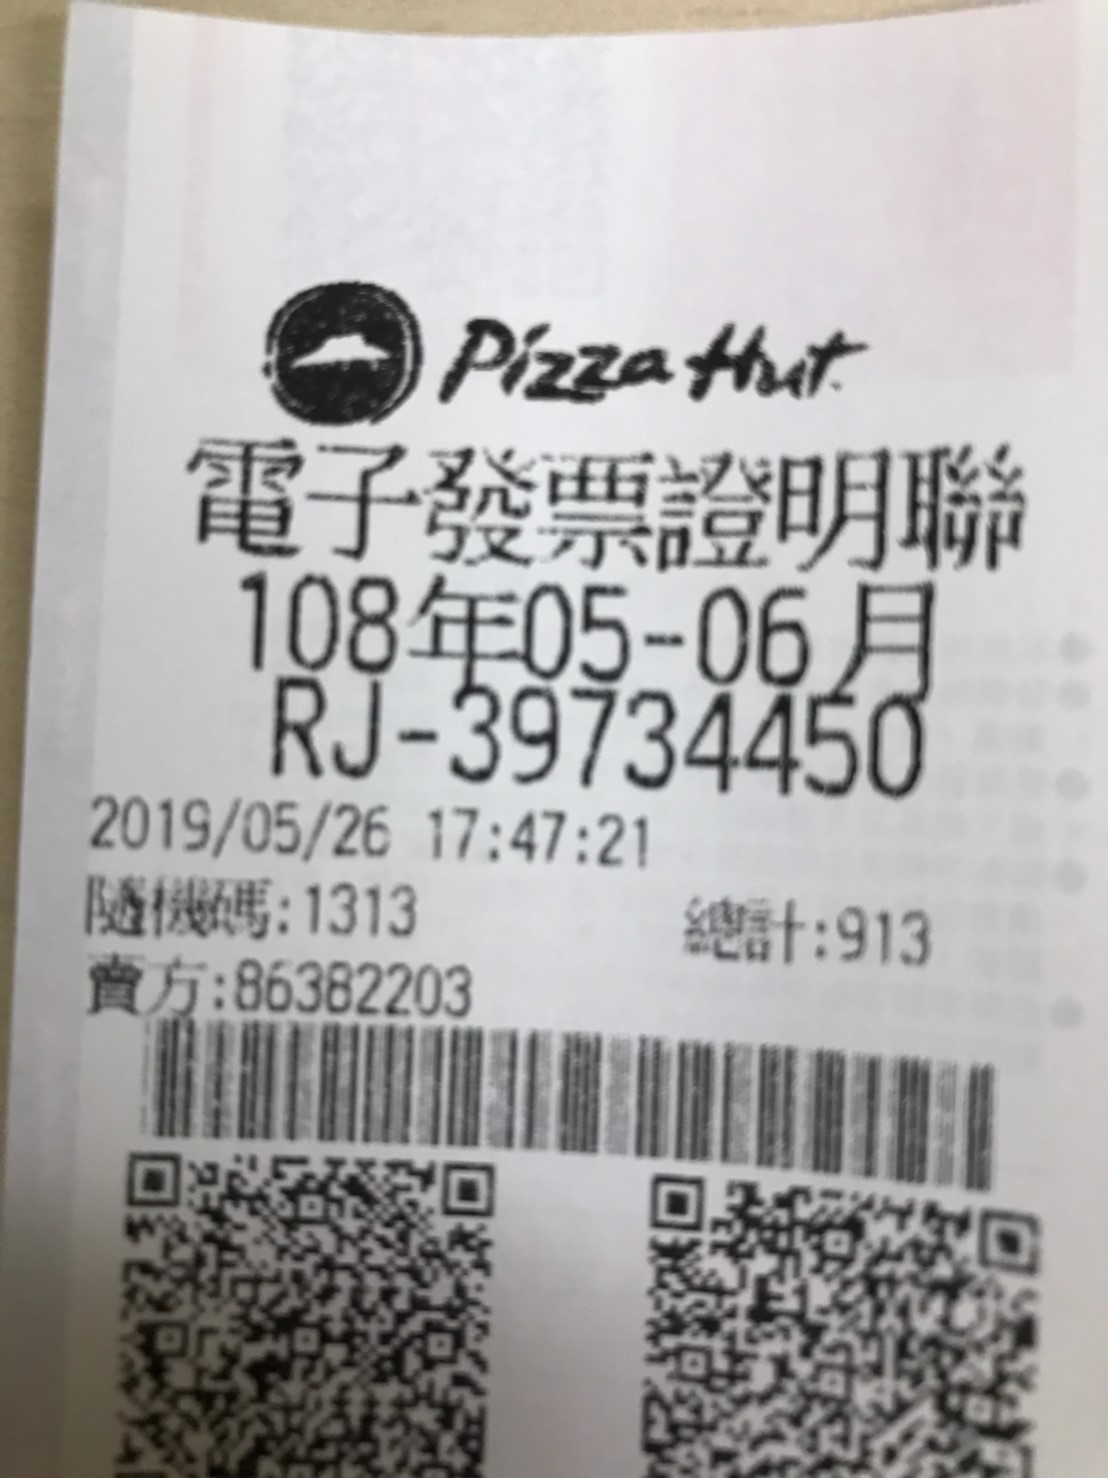Date_New: (237, 567, 940, 708)
Number_New: (452, 684, 923, 801)
